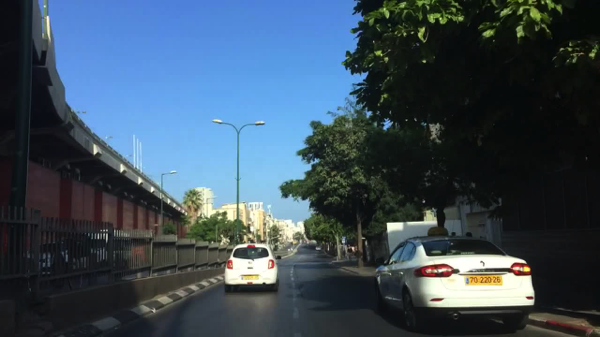car: (372, 235, 535, 333), (224, 243, 279, 293), (74, 228, 133, 271), (27, 238, 86, 276), (272, 244, 280, 252), (315, 245, 323, 252), (292, 239, 299, 245), (284, 240, 289, 245), (302, 239, 308, 243), (278, 245, 284, 249), (306, 241, 311, 245), (281, 243, 286, 247)
person: (346, 244, 353, 259), (464, 231, 473, 238), (354, 243, 358, 258), (352, 244, 356, 259), (449, 231, 456, 236)
traffic sign: (342, 239, 345, 245)
